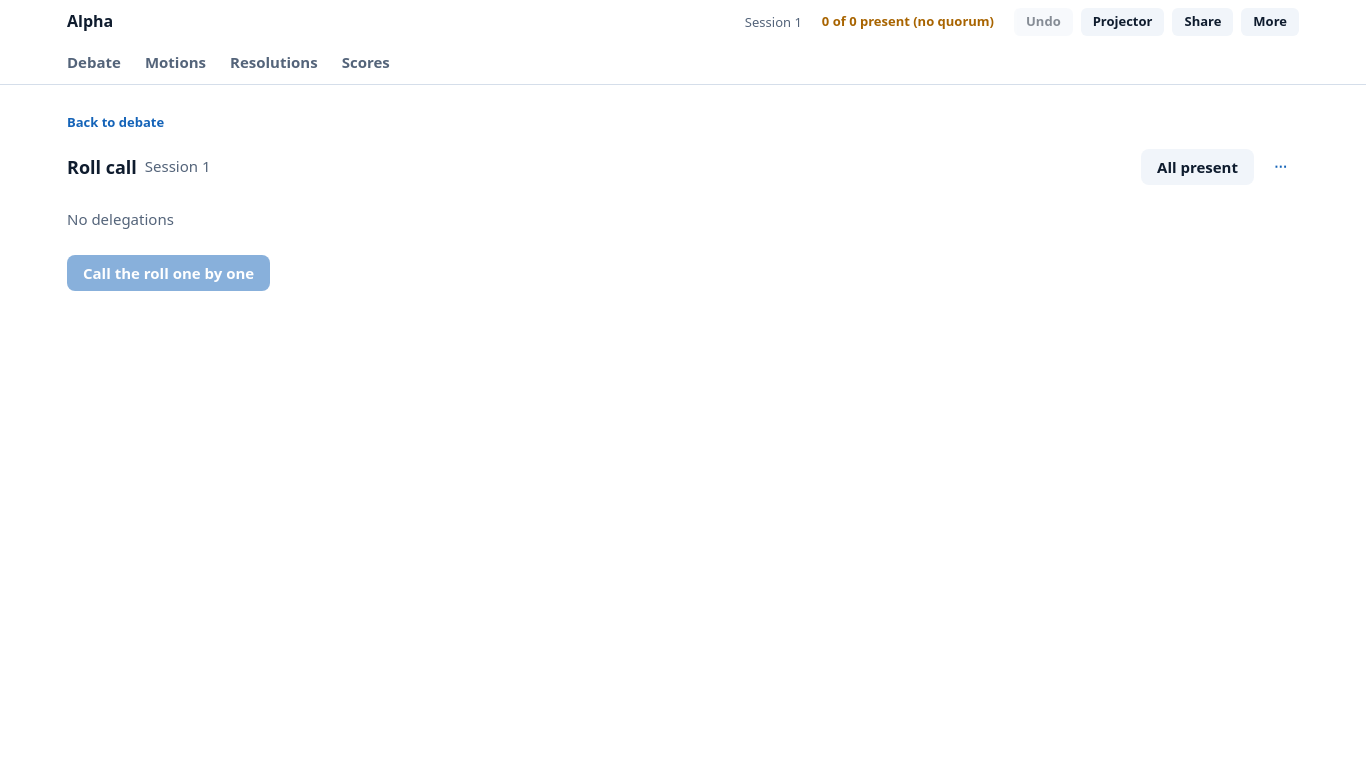
Test: App › switches committees in place from the Committees dialog and updates the URL
The width and height of the screenshot is (1366, 768).
Click the button "More": (1270, 22) [1241, 8, 1299, 36]
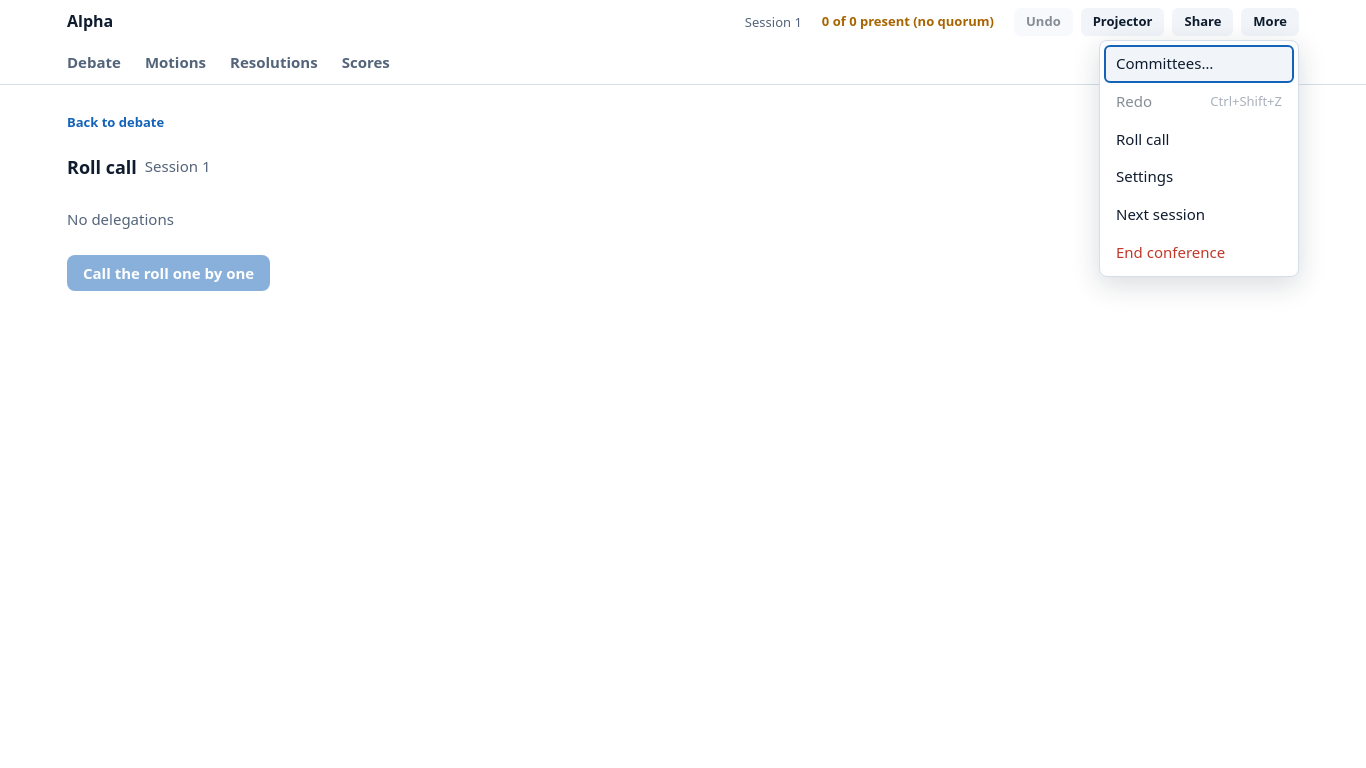
Click the menu item "Committees…": (1199, 64) [1104, 45, 1294, 83]
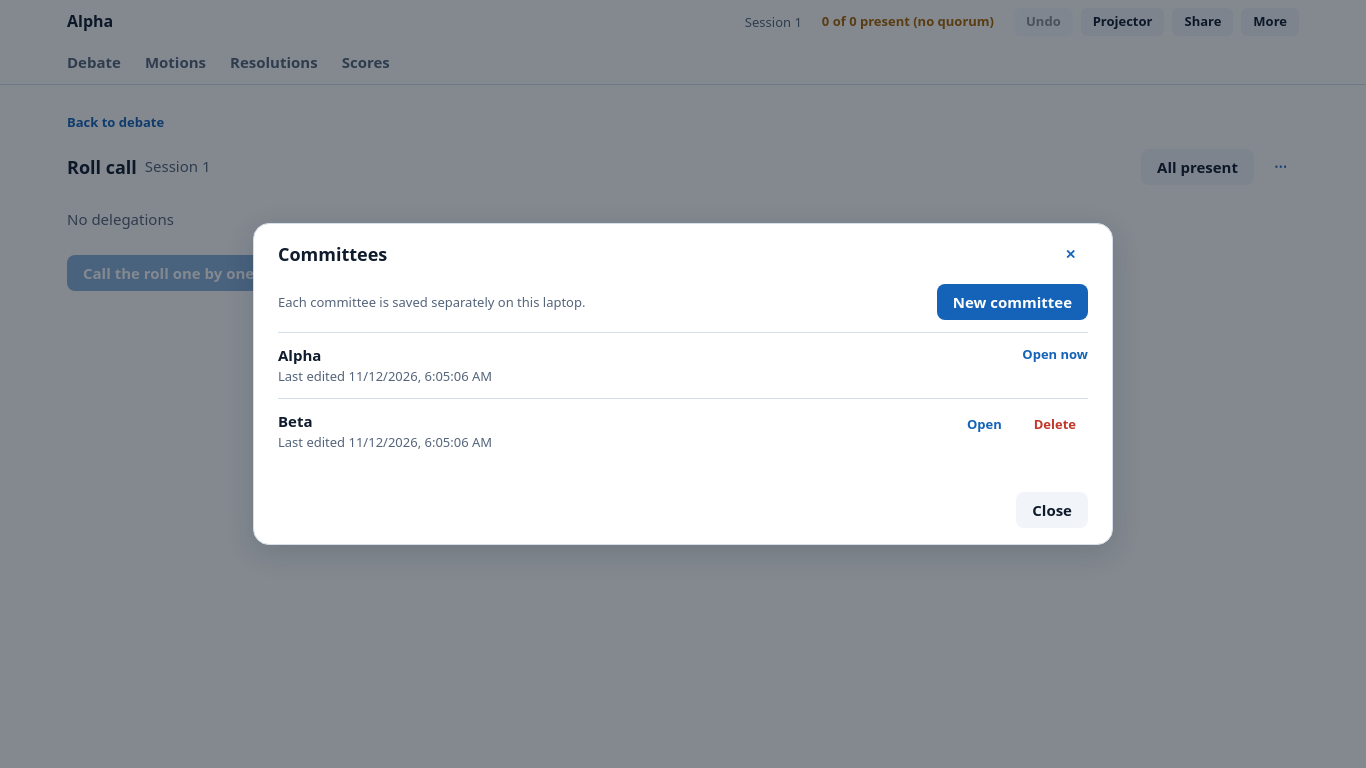
Click the button with aria-label "Open Beta": (984, 425) [955, 411, 1014, 439]
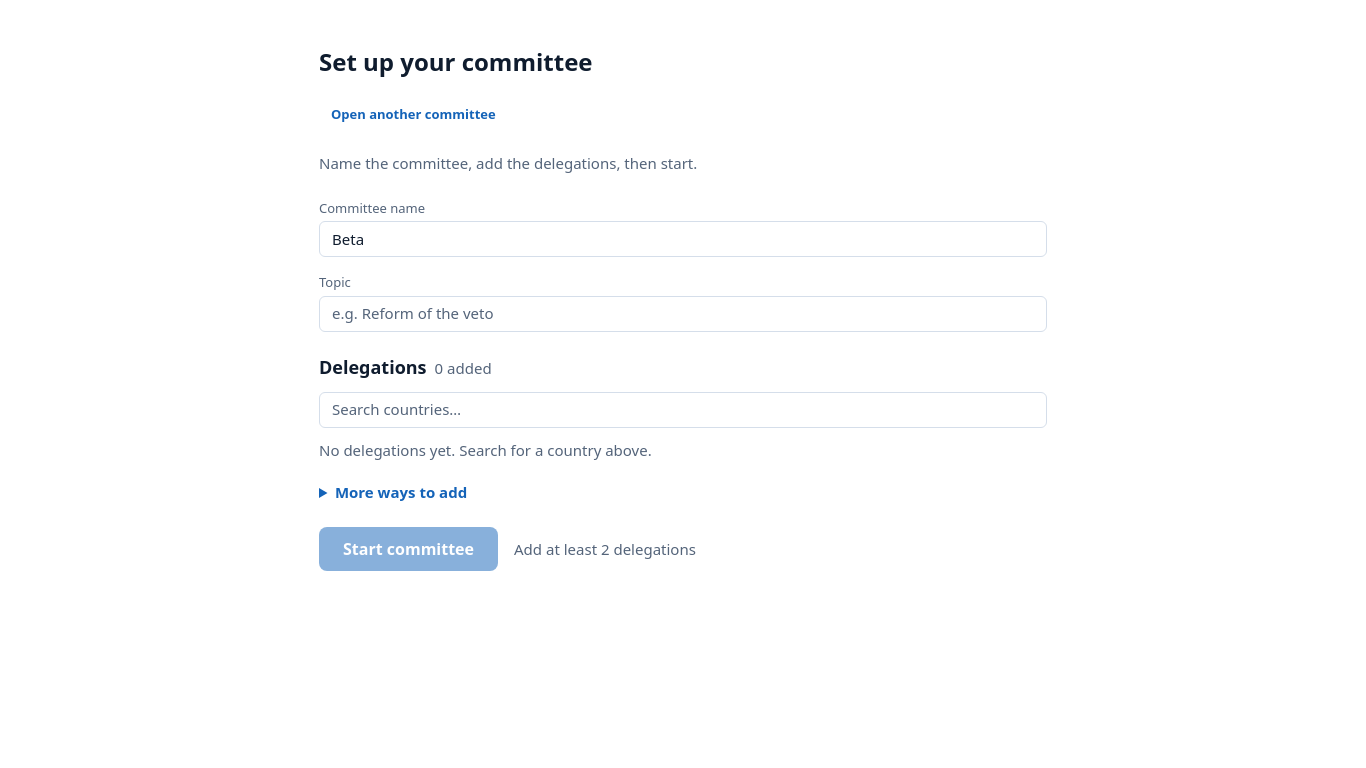
Expected: the field labelled "Committee name" holds "Beta", [319, 221, 1047, 257]
